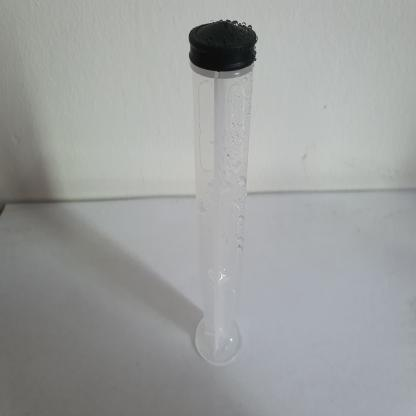wet: (184, 16, 253, 370)
